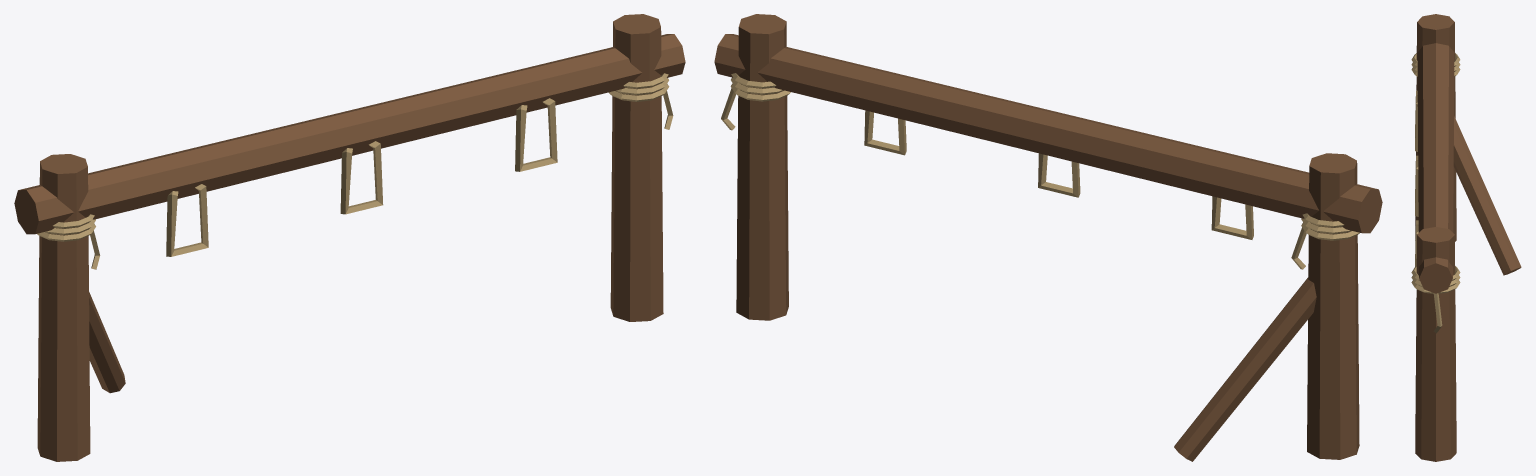
3 renders of one model, left to right at view 1: azimuth 30°, elevation 25°; view 2: azimuth 150°, elevation 25°; view 3: azimuth 270°, elevation 25°, orthographic. The views are drawn at different scales.
Visible parts, largest first — view 1: BA-0062 batched; view 2: BA-0062 batched; view 3: BA-0062 batched.
Boxes of the visible parts, box(x1,y1,x2,y2) form: BA-0062 batched: box(14, 14, 685, 461); BA-0062 batched: box(714, 14, 1382, 461); BA-0062 batched: box(1411, 14, 1521, 461).
Size of the model in its own units: 2.61 by 1.1 by 0.5028.
